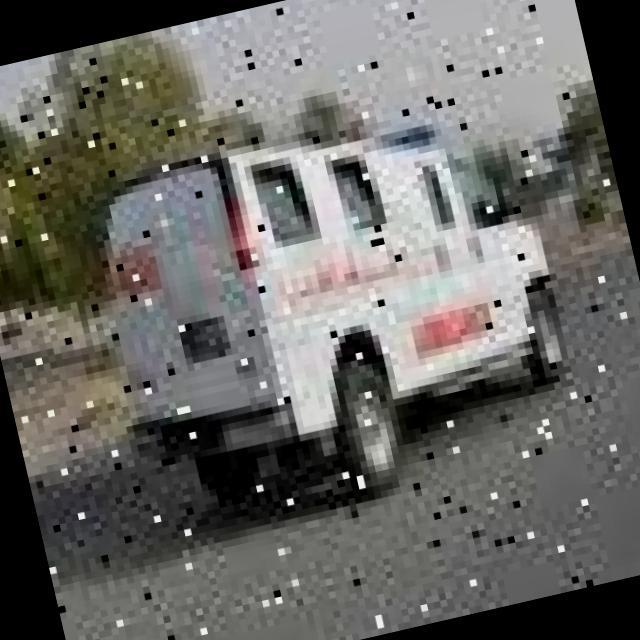emergency-vehicle: (38, 66, 606, 560)
